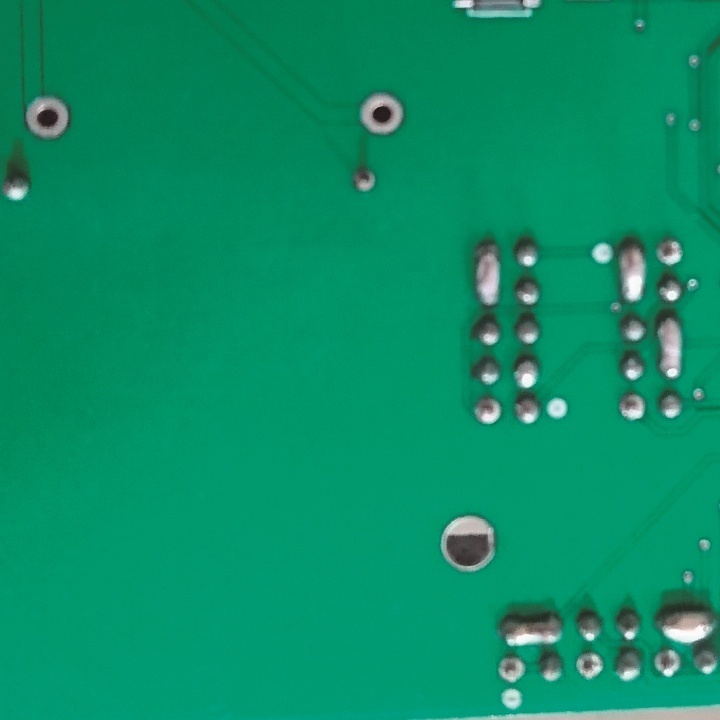F: (359, 89, 405, 138), (23, 95, 73, 140), (655, 235, 685, 271), (618, 392, 650, 425), (574, 649, 605, 681), (348, 165, 381, 195), (470, 395, 501, 426), (497, 655, 528, 684), (653, 649, 681, 680)
P: (655, 605, 717, 643), (473, 237, 504, 308), (501, 616, 567, 647), (655, 314, 686, 378), (619, 238, 647, 303)
